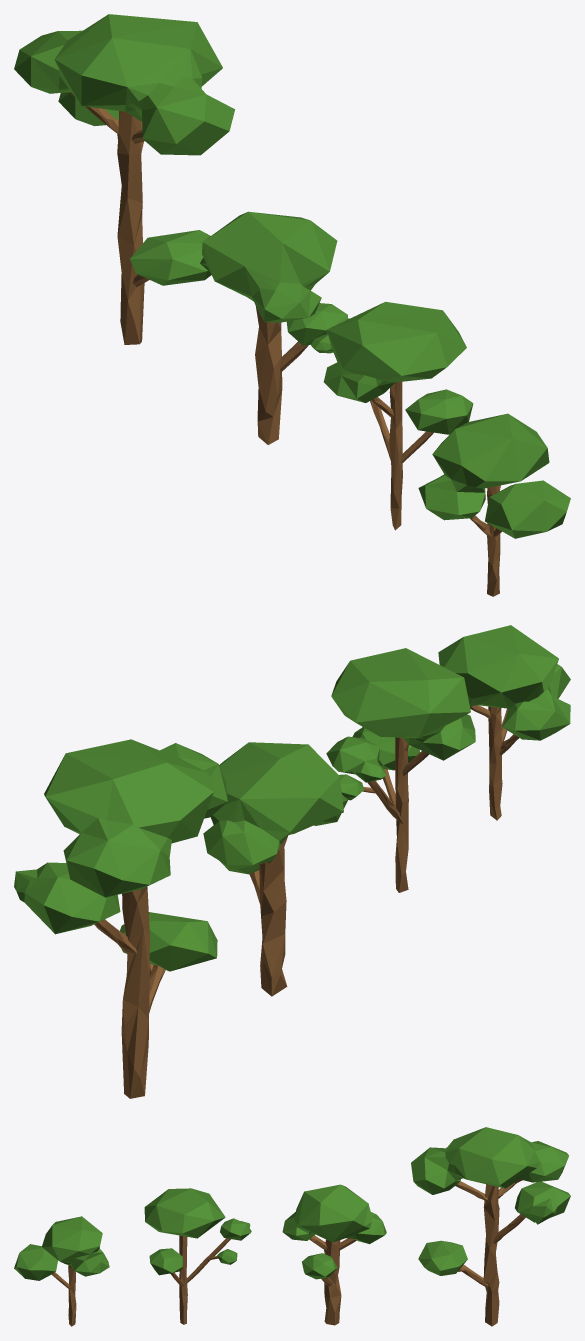
Rendered from Trees.fbx.
3 views of the same model, one above another, from view 1: azimuth 30°, elevation 25°; view 2: azimuth 150°, elevation 25°; view 3: azimuth 270°, elevation 25° (orthographic). The views are drawn at different scales.
Visible parts, largest first — view 1: Tree_4, Tree_3, Tree_2, Tree_1; view 2: Tree_4, Tree_2, Tree_3, Tree_1; view 3: Tree_4, Tree_3, Tree_2, Tree_1.
Boxes of the visible parts, <box> form: Tree_4: <box>14,14,234,344</box>; Tree_3: <box>200,211,347,444</box>; Tree_2: <box>311,301,473,530</box>; Tree_1: <box>418,413,570,596</box>; Tree_4: <box>14,739,227,1098</box>; Tree_2: <box>326,648,475,892</box>; Tree_3: <box>203,742,347,996</box>; Tree_1: <box>438,625,570,820</box>; Tree_4: <box>411,1127,570,1326</box>; Tree_3: <box>282,1184,386,1325</box>; Tree_2: <box>144,1188,251,1324</box>; Tree_1: <box>14,1216,109,1326</box>.
Size of the model in its own units: 222 by 459 by 1225.
